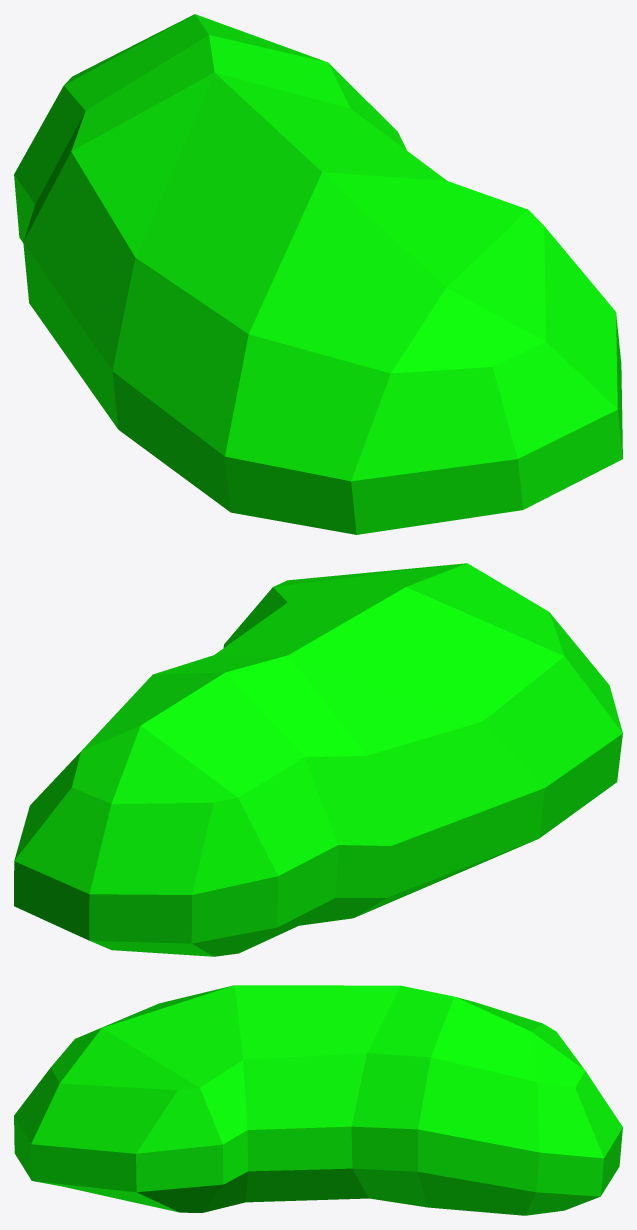
File: SM_Kidney_Left.fbx
3 renders of one model, top to bottom at view 1: azimuth 30°, elevation 25°; view 2: azimuth 150°, elevation 25°; view 3: azimuth 270°, elevation 25°, orthographic. The views are drawn at different scales.
Parts seen in each view (by area): view 1: kidney-left; view 2: kidney-left; view 3: kidney-left.
Part boxes in pixels (left/top/right/bottom): kidney-left: left=14, top=14, right=622, bottom=534; kidney-left: left=14, top=563, right=622, bottom=956; kidney-left: left=14, top=985, right=622, bottom=1215.
Size of the model in its own units: 0.096 by 0.0602 by 0.1807.
